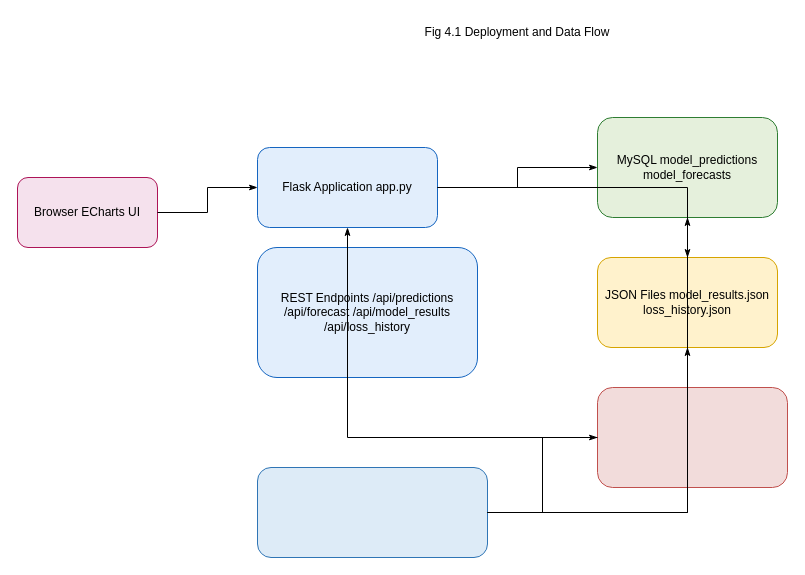
The diagram is 805 pixels wide and 575 high, and some of its shapes have lost their labels. The shapes that lost their labels are listed below. From the top down, each one's centre as x and y in pixels, then its label:
the point at 692,437: Model Artifacts lstm / rnn / gru / cnn .pth rf_model.pkl
the point at 372,512: Training Pipeline train_1.py preprocess -> train -> evaluate -> export
